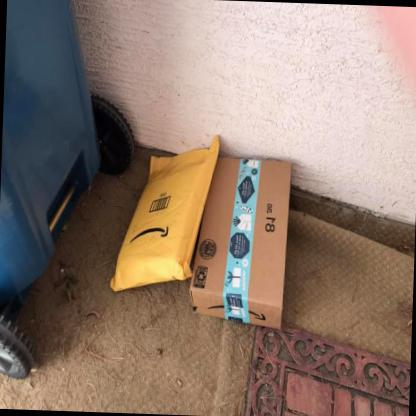box: (176, 160, 297, 331)
envelope: (105, 136, 228, 291)
